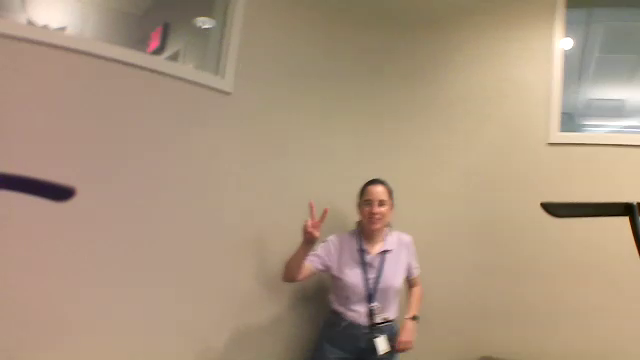peace: (299, 195, 335, 246)
